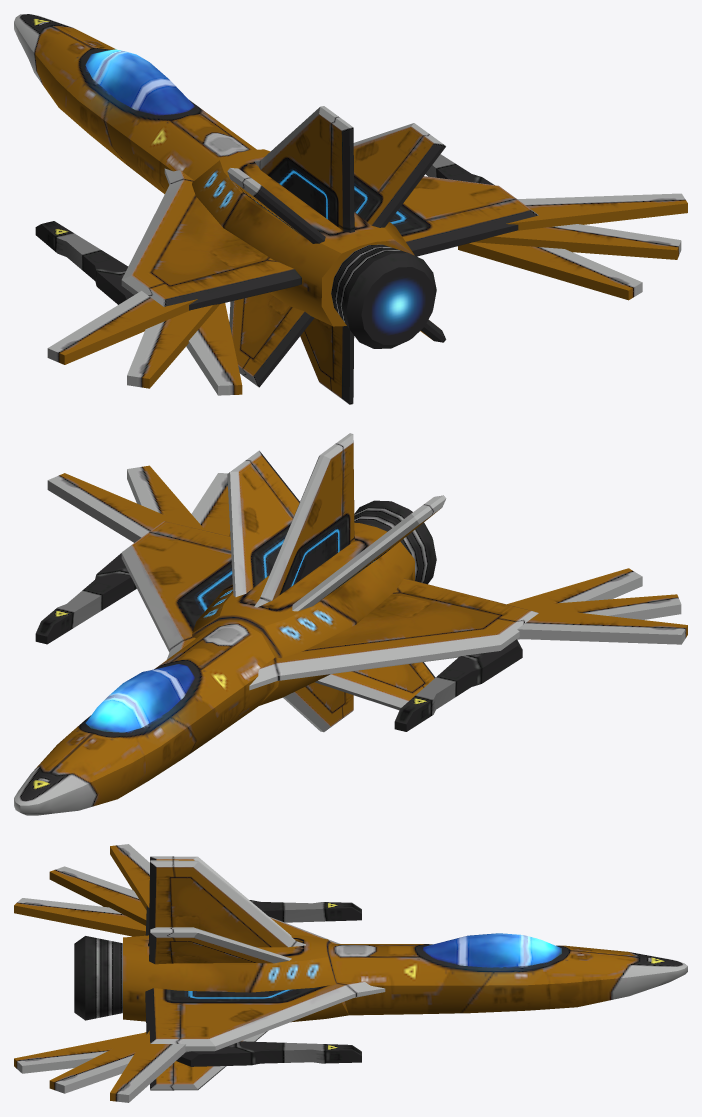
Rendered from scout7.gltf.
3 views of the same model, one above another, from view 1: azimuth 30°, elevation 25°; view 2: azimuth 150°, elevation 25°; view 3: azimuth 270°, elevation 25° (orthographic). The views are drawn at different scales.
Visible parts, largest first — view 1: scout7; view 2: scout7; view 3: scout7.
Part boxes in pixels (x1,y1,x2,y2): scout7: (14, 14, 687, 404); scout7: (14, 433, 687, 815); scout7: (14, 844, 687, 1102).
Size of the model in its own units: 10.23 by 4.27 by 11.6.
1 material, 1 textured.
